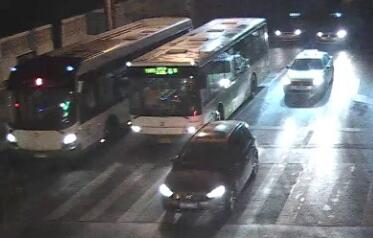bus: (1, 15, 192, 158), (113, 18, 273, 143)
car: (158, 119, 260, 219), (280, 47, 335, 104), (269, 9, 321, 45), (316, 7, 362, 43)
